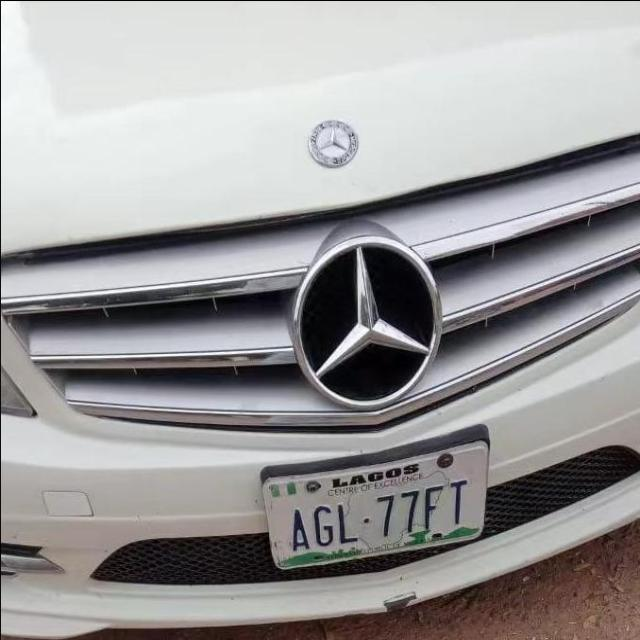Nigerian License Plate - vdataset benjamin-daria: (255, 434, 494, 577)
